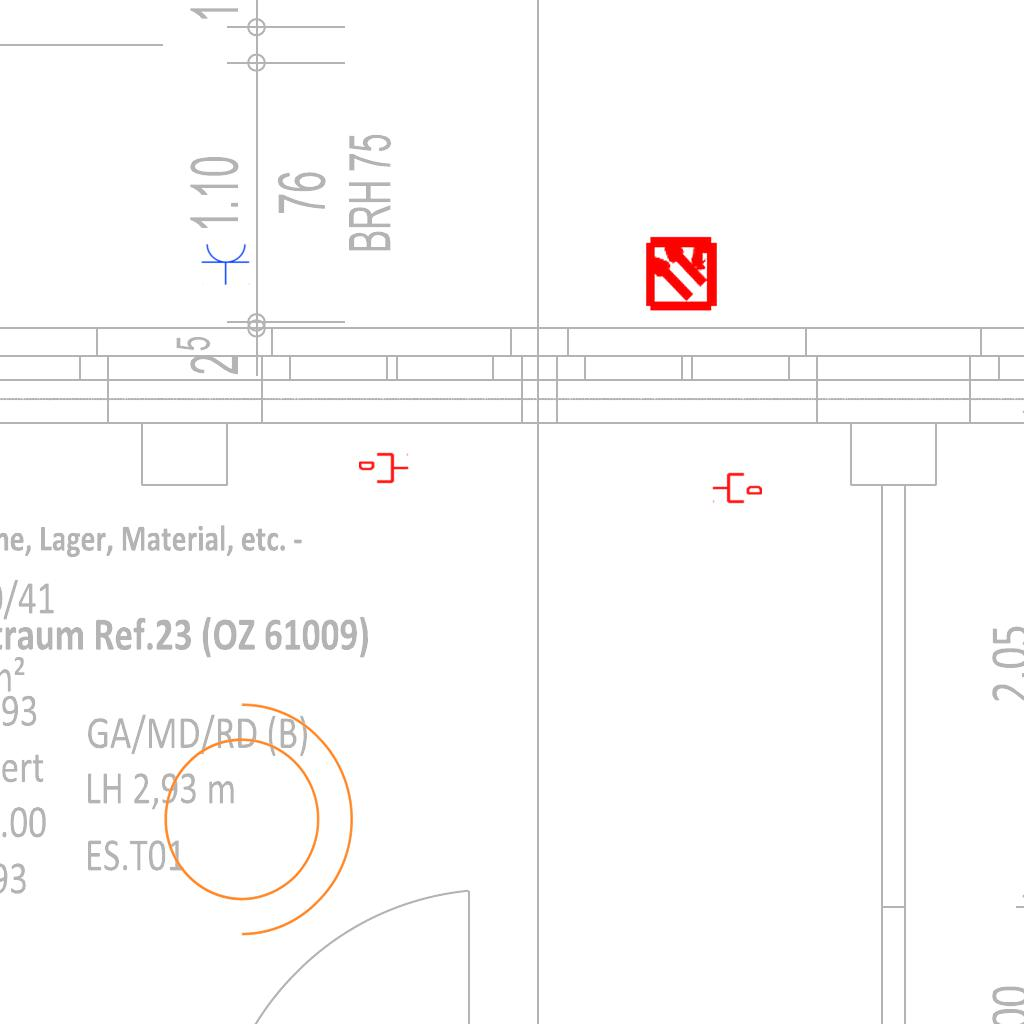Datenanschluss_einfach: (712, 471, 762, 505), (359, 451, 409, 485)
OT_Multisensormelder_(Kombination_RMO_WMD): (625, 215, 738, 328)
Scheinwerfer_fuer_Alarmbeleuchtung: (139, 681, 364, 945)
Schukosteckdose_einfach: (201, 242, 251, 285)
